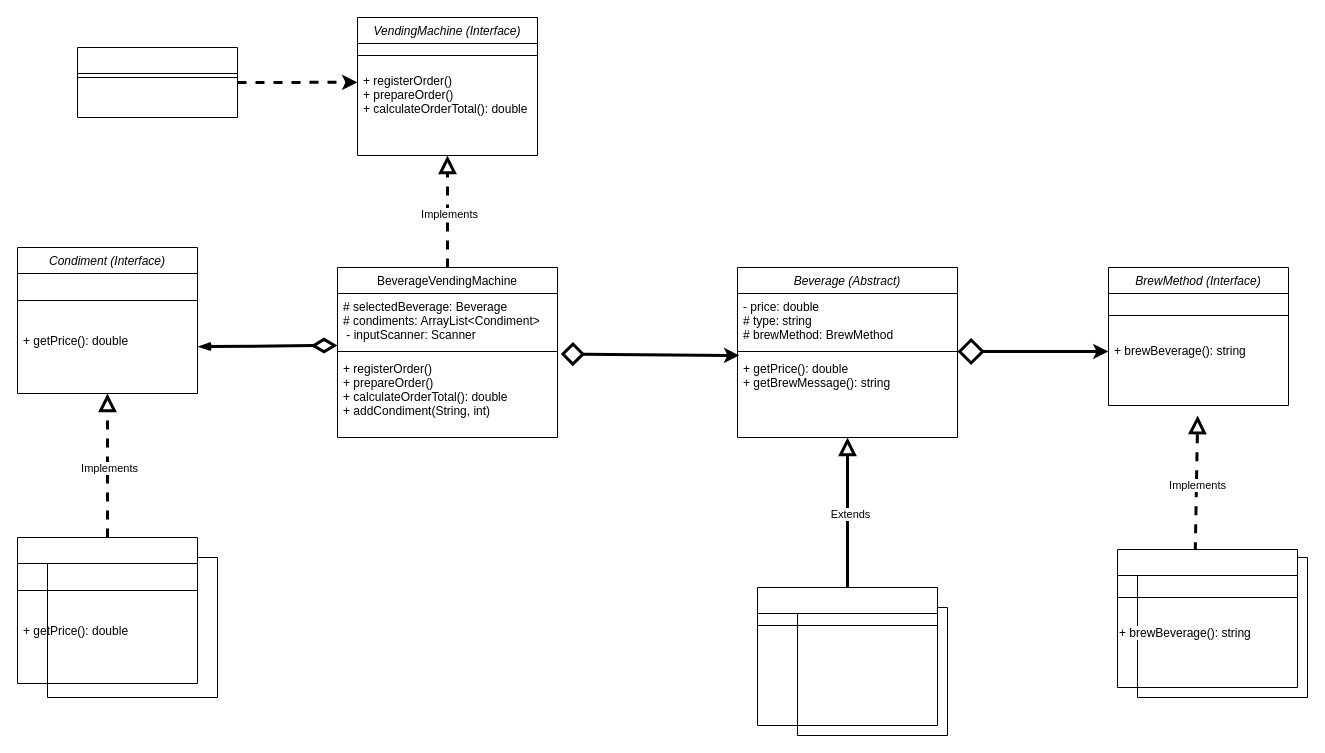
The diagram is 1325 pixels wide and 753 high, and some of its shapes have lost their labels. Here are the shapes that lost their labels. From the top down, the centre of each, then its label:
At [157,82]: "Main (Executable Class)".
At [107,610]: "Milk".
At [1207,618]: "PullCoffee".
At [847,656]: "Americano".
